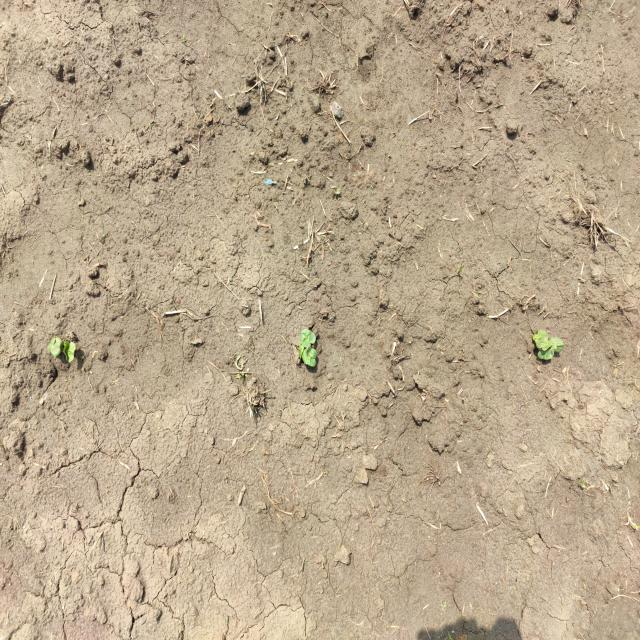seedling_s1: (301, 329, 316, 344), (536, 330, 548, 348), (51, 337, 61, 356), (538, 349, 554, 360), (67, 342, 75, 363), (554, 337, 564, 353), (300, 334, 311, 348), (303, 356, 316, 367), (542, 340, 553, 351), (306, 347, 316, 359), (549, 337, 557, 352), (48, 338, 55, 353), (64, 342, 69, 360), (302, 347, 308, 361), (299, 345, 304, 358)
